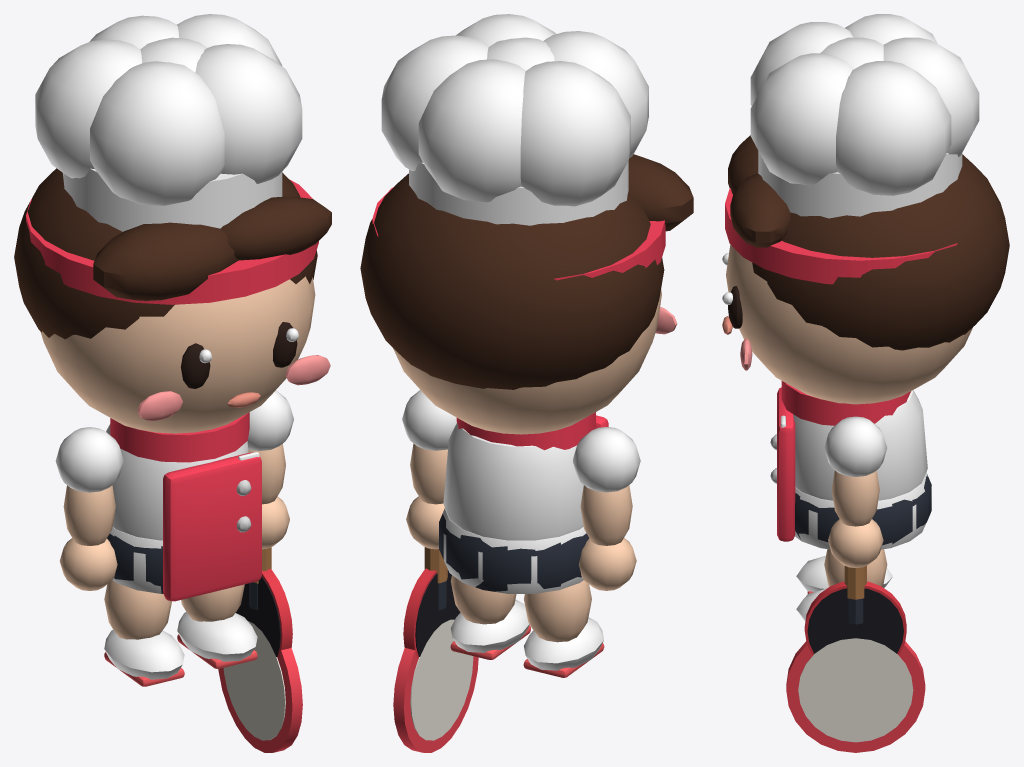
File: characters.glb
3 views of the same model, side by side, from view 1: azimuth 30°, elevation 25°; view 2: azimuth 150°, elevation 25°; view 3: azimuth 270°, elevation 25° (orthographic). The views are drawn at different scales.
Visible parts, largest first — view 1: ch_chef_head, ch_tennis_head, ch_chef_torso, ch_chef_armL, ch_tennis_racket, ch_chef_legL, ch_chef_legR, ch_chef_armR, ch_tennis_torso, ch_tt_paddle, ch_tt_head; view 2: ch_chef_head, ch_tennis_head, ch_chef_torso, ch_tennis_torso, ch_chef_armL, ch_tennis_racket, ch_chef_legL, ch_chef_armR, ch_chef_legR, ch_tt_paddle; view 3: ch_chef_head, ch_tennis_head, ch_tennis_racket, ch_chef_torso, ch_chef_armR, ch_tennis_torso, ch_tt_paddle, ch_chef_legR, ch_chef_legL, ch_tennis_armL.
Boxes of the visible parts, x1=… form: ch_chef_head: x1=24, y1=14, x2=330, y2=433; ch_tennis_head: x1=14, y1=168, x2=331, y2=433; ch_chef_torso: x1=106, y1=412, x2=261, y2=601; ch_chef_armL: x1=55, y1=427, x2=123, y2=590; ch_tennis_racket: x1=218, y1=582, x2=302, y2=752; ch_chef_legL: x1=104, y1=580, x2=184, y2=686; ch_chef_legR: x1=177, y1=584, x2=257, y2=668; ch_chef_armR: x1=247, y1=390, x2=293, y2=549; ch_tennis_torso: x1=110, y1=441, x2=259, y2=593; ch_tt_paddle: x1=235, y1=547, x2=292, y2=659; ch_tt_head: x1=152, y1=201, x2=330, y2=415; ch_chef_head: x1=363, y1=14, x2=689, y2=434; ch_tennis_head: x1=360, y1=154, x2=693, y2=430; ch_chef_torso: x1=439, y1=412, x2=608, y2=591; ch_tennis_torso: x1=443, y1=428, x2=586, y2=593; ch_chef_armL: x1=573, y1=427, x2=640, y2=590; ch_tennis_racket: x1=393, y1=580, x2=478, y2=752; ch_chef_legL: x1=523, y1=580, x2=604, y2=677; ch_chef_armR: x1=402, y1=390, x2=456, y2=549; ch_chef_legR: x1=450, y1=575, x2=530, y2=659; ch_tt_paddle: x1=403, y1=547, x2=460, y2=659; ch_chef_head: x1=722, y1=14, x2=1009, y2=404; ch_tennis_head: x1=722, y1=135, x2=1005, y2=401; ch_tennis_racket: x1=786, y1=598, x2=925, y2=752; ch_chef_torso: x1=770, y1=381, x2=931, y2=545; ch_chef_armR: x1=824, y1=416, x2=887, y2=567; ch_tennis_torso: x1=780, y1=390, x2=931, y2=549; ch_tt_paddle: x1=804, y1=565, x2=906, y2=655; ch_chef_legR: x1=796, y1=549, x2=887, y2=621; ch_chef_legL: x1=796, y1=556, x2=892, y2=593; ch_tennis_armL: x1=824, y1=417, x2=876, y2=567.
Bounding box in the file's own units: 0.3049 × 0.795 × 0.31.
